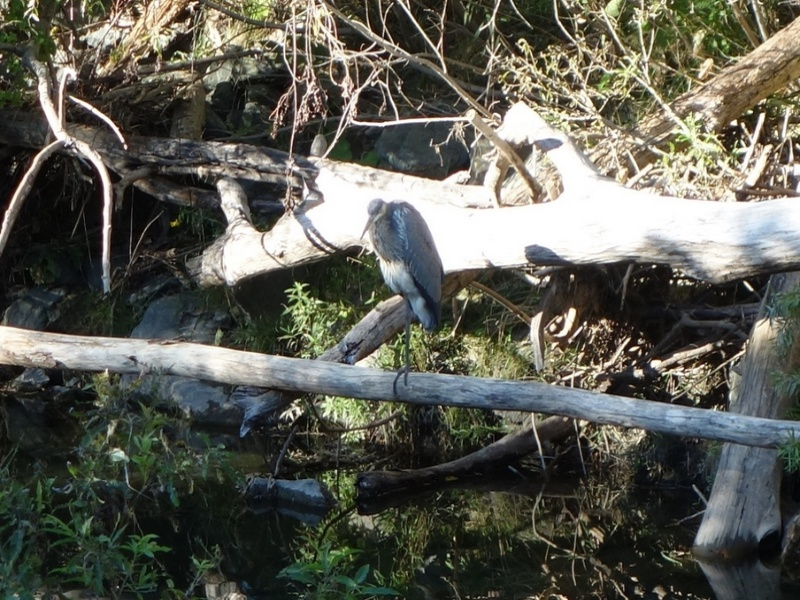heron: (357, 198, 451, 384)
